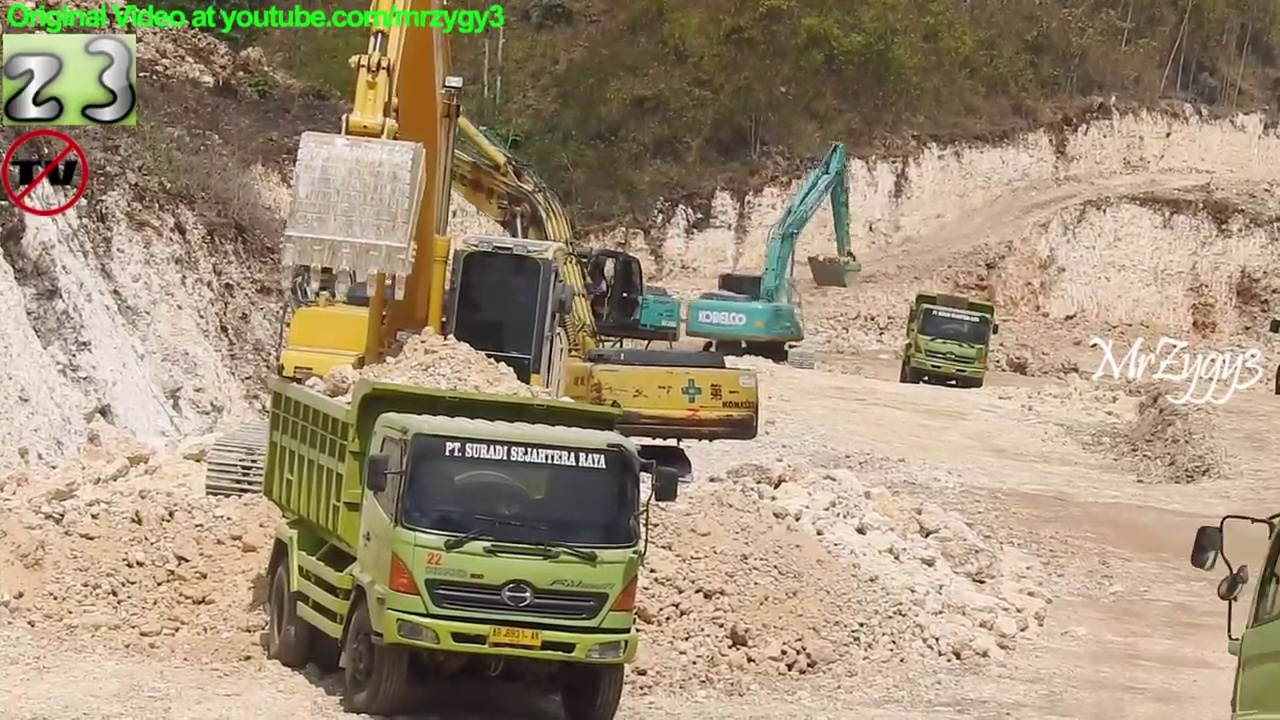excavator: (203, 3, 630, 516), (289, 74, 761, 510), (416, 120, 688, 399), (682, 138, 864, 381)
truck: (258, 372, 695, 720), (1189, 500, 1277, 720), (898, 289, 1005, 393)
